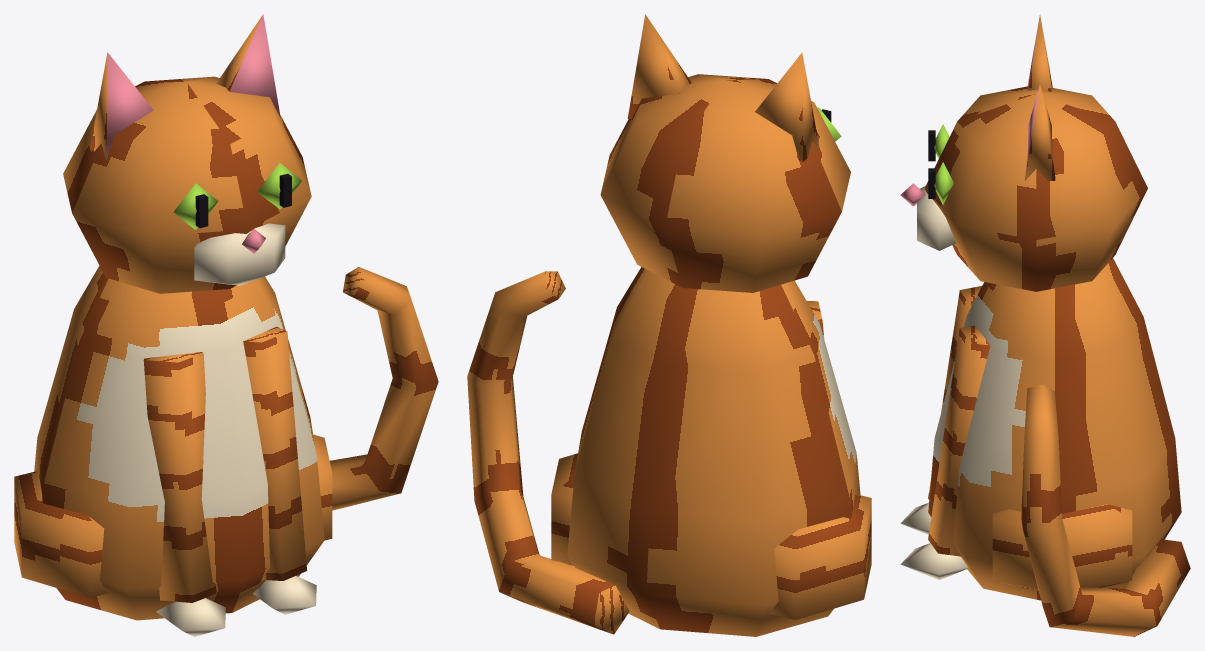
Rendered from personal-cat.glb.
3 renders of one model, left to right at view 1: azimuth 30°, elevation 25°; view 2: azimuth 150°, elevation 25°; view 3: azimuth 270°, elevation 25°, orthographic. The views are drawn at different scales.
Visible parts, largest first — view 1: personal.cat; view 2: personal.cat; view 3: personal.cat.
Part boxes in pixels (x1,y1,x2,y2): personal.cat: [14, 14, 438, 636]; personal.cat: [467, 14, 871, 636]; personal.cat: [900, 15, 1190, 636].
Bounding box in the file's own units: 1.33 × 1.79 × 0.9038.
7 materials, 5 textured.
